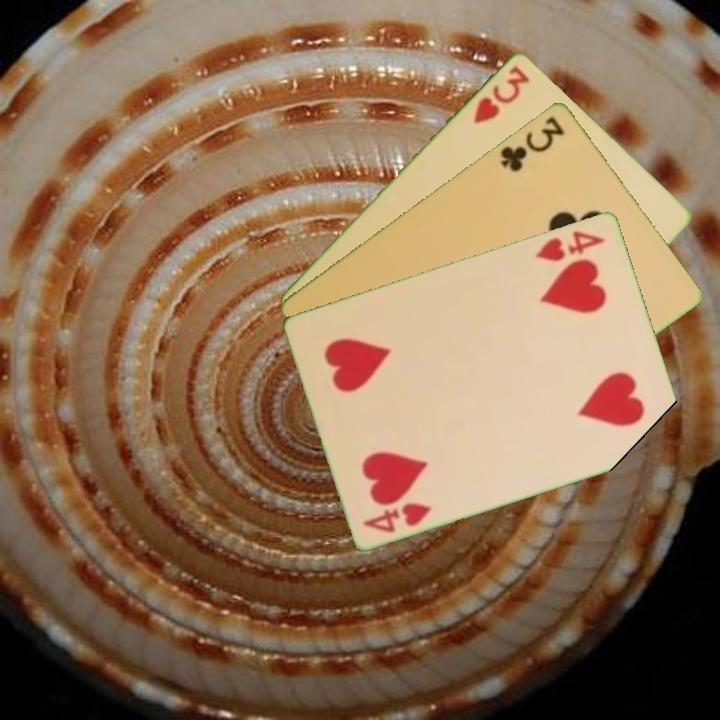3c: (497, 112, 568, 175)
3h: (469, 61, 533, 126)
4h: (532, 226, 608, 264), (360, 498, 434, 535)
